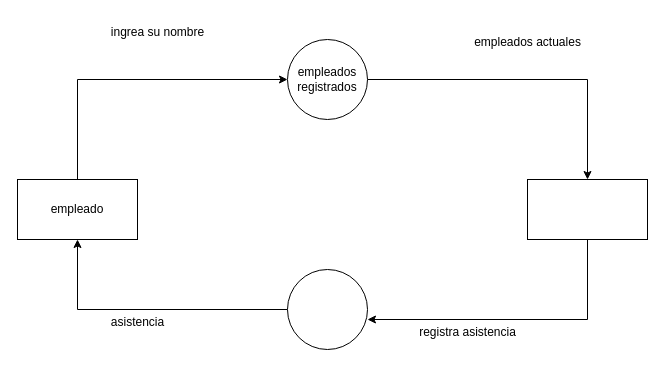
Image size: 665x367. Some labels were removed from this diagram. Each missing label, with the centre of its shape:
"administrador" goes at point (587, 209).
"estado de asistencia" goes at point (327, 309).
